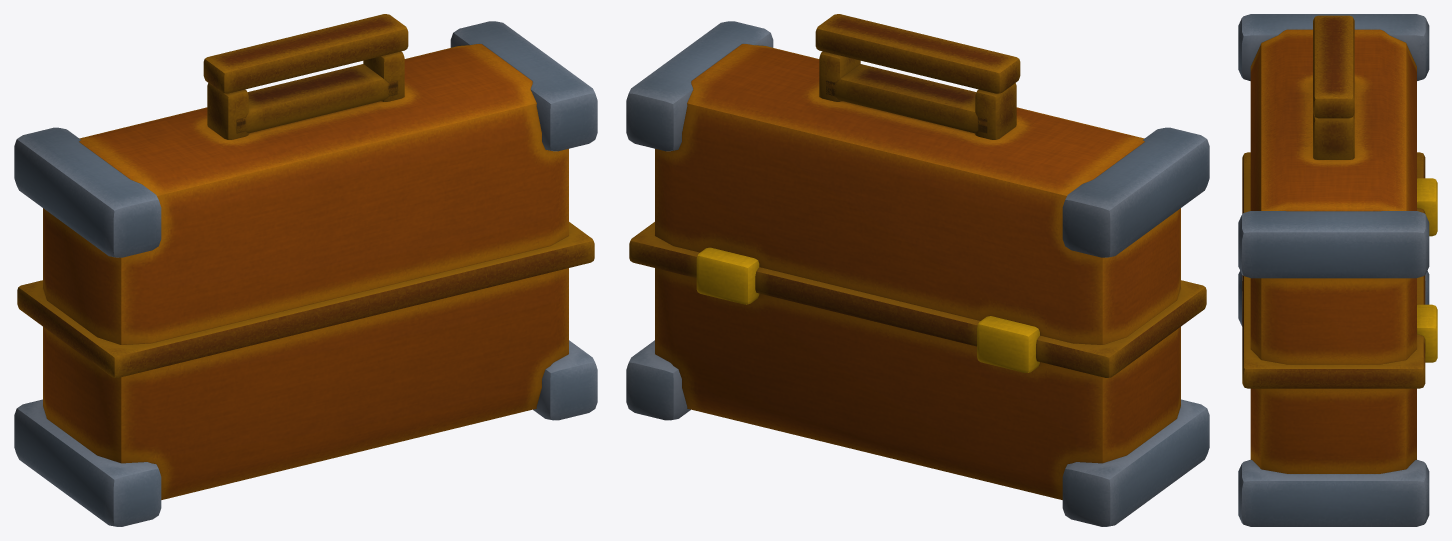
Rendered from Suitcase.fbx.
3 views of the same model, side by side, from view 1: azimuth 30°, elevation 25°; view 2: azimuth 150°, elevation 25°; view 3: azimuth 270°, elevation 25° (orthographic). The views are drawn at different scales.
Parts seen in each view (by area): view 1: Suitcase; view 2: Suitcase; view 3: Suitcase.
Boxes of the visible parts, left/top/right/bottom form: Suitcase: left=14, top=14, right=597, bottom=526; Suitcase: left=626, top=14, right=1209, bottom=526; Suitcase: left=1238, top=14, right=1437, bottom=526.
Bounding box in the file's own units: 0.63 × 0.485 × 0.24.
